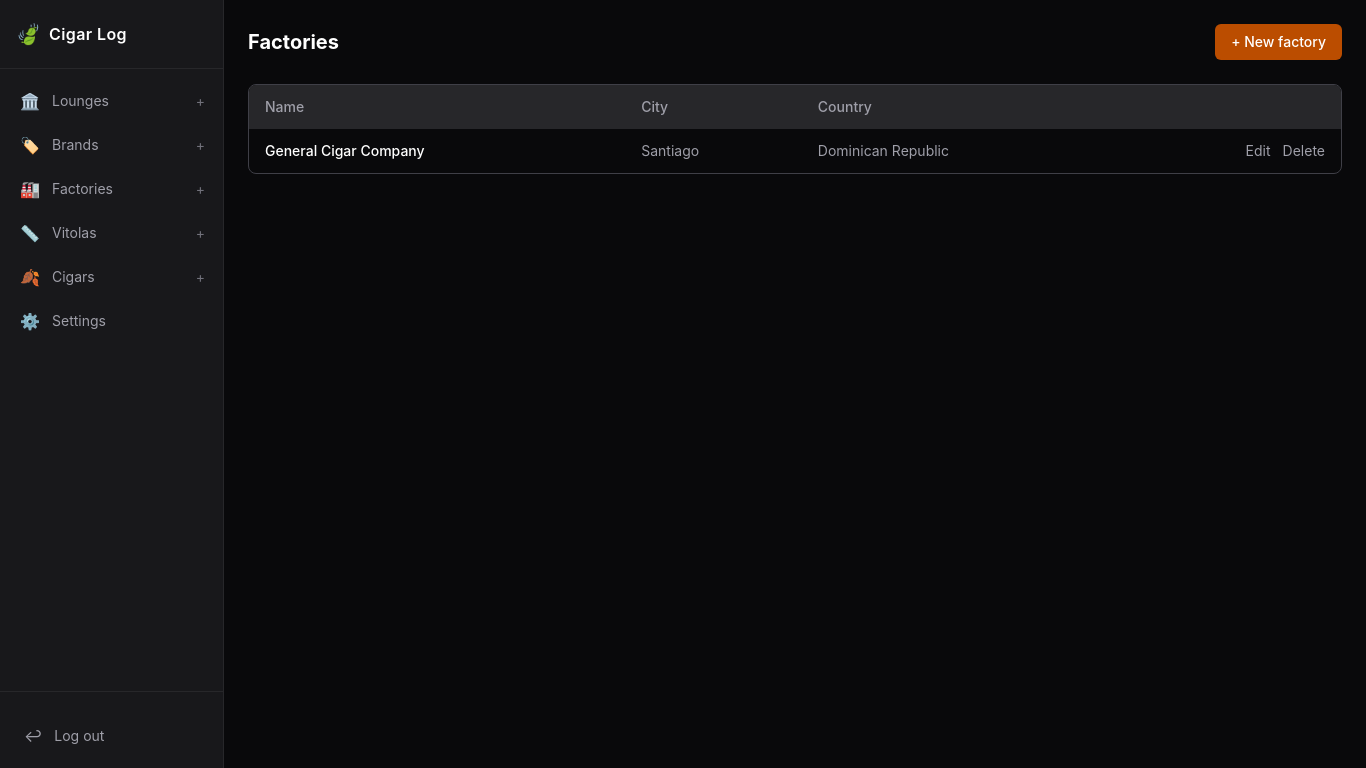
Test: FactoriesPage › shows validation error when name is empty on submit
Click the button "+ New factory".
click(1279, 42)  # box [1215,24,1342,60]
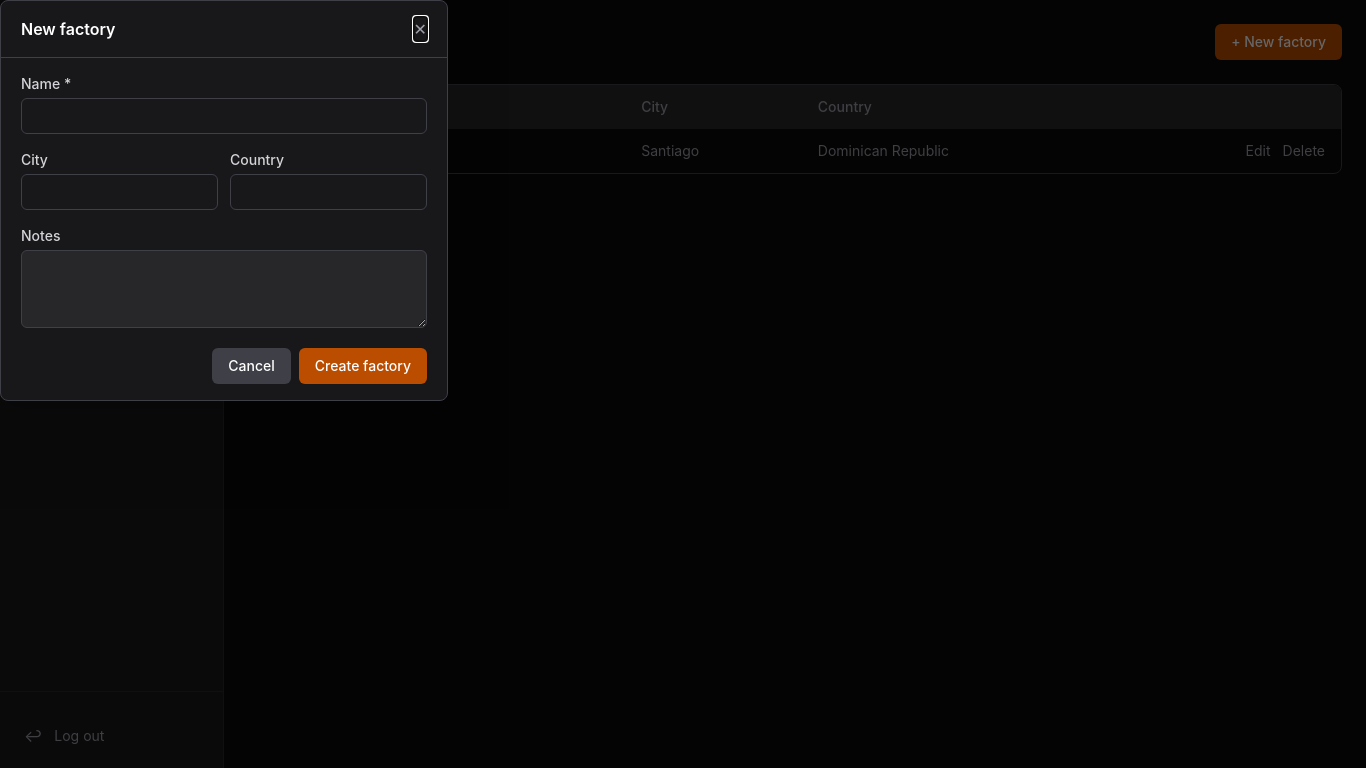
Click the button "Create factory".
click(363, 366)  # box [299,348,427,384]
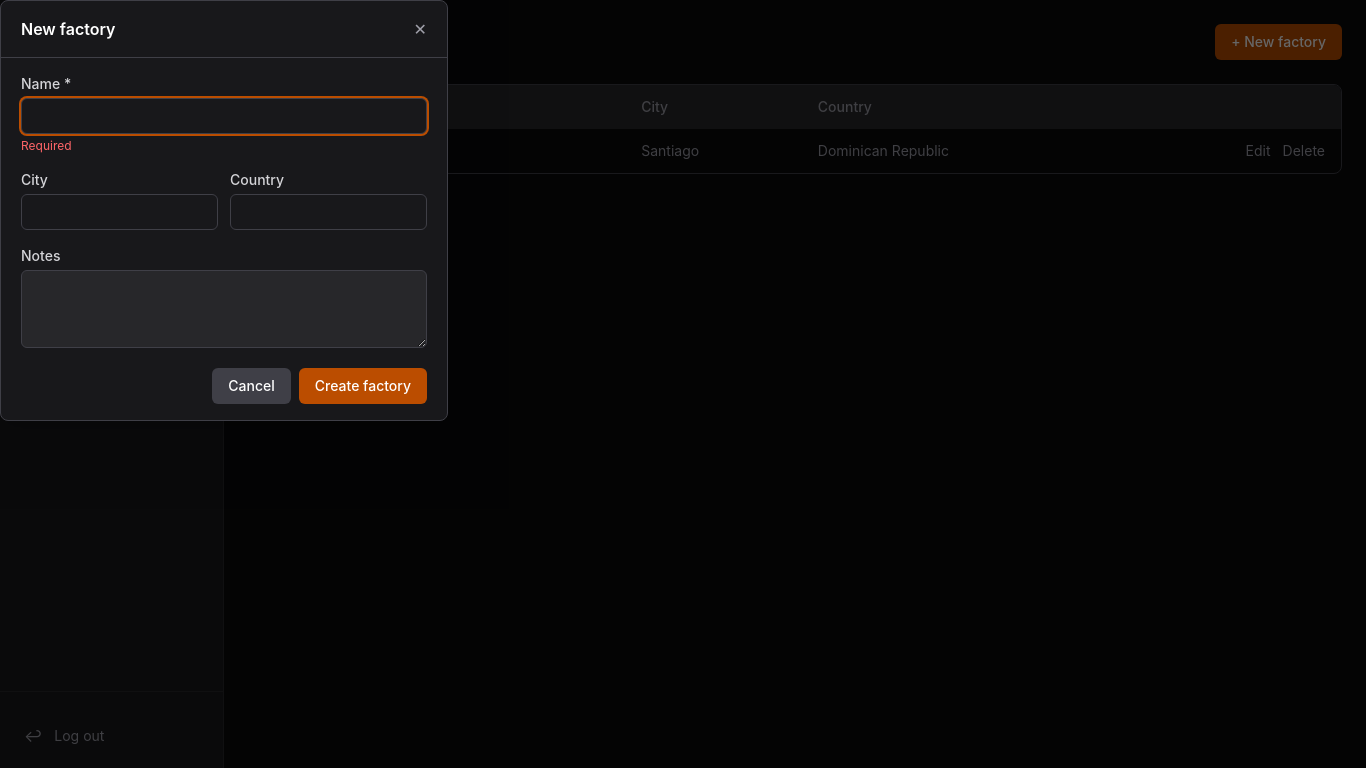
Expected: the text "Required" is shown, [21,138,72,153]
